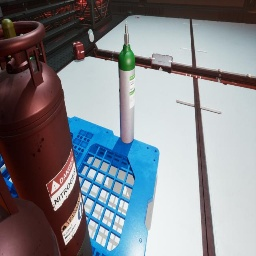0: (118, 21, 135, 144), (20, 33, 33, 60), (88, 29, 94, 42), (0, 66, 2, 72)
FirstAidBox ,: (151, 54, 173, 74), (72, 41, 85, 60)
NitrogenTank ,: (0, 19, 93, 256), (0, 153, 61, 256)
